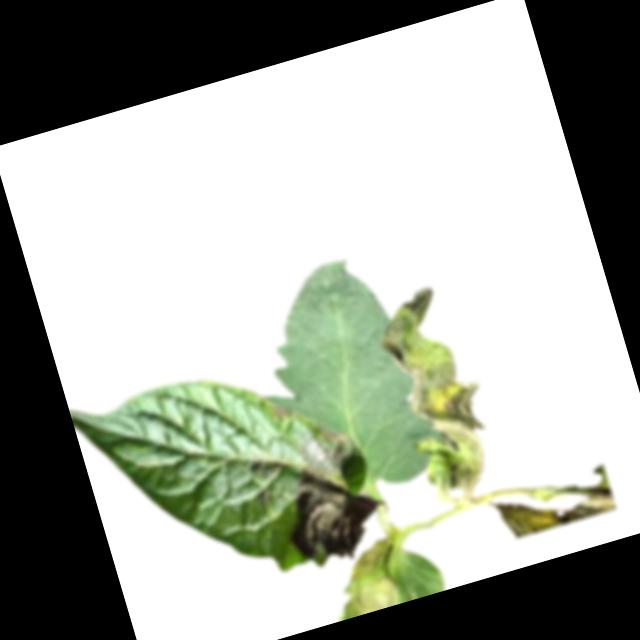Late_blight: (369, 279, 511, 506), (262, 420, 393, 572), (494, 465, 617, 542), (316, 535, 410, 622), (271, 404, 297, 428)
healthy: (250, 247, 448, 508)
